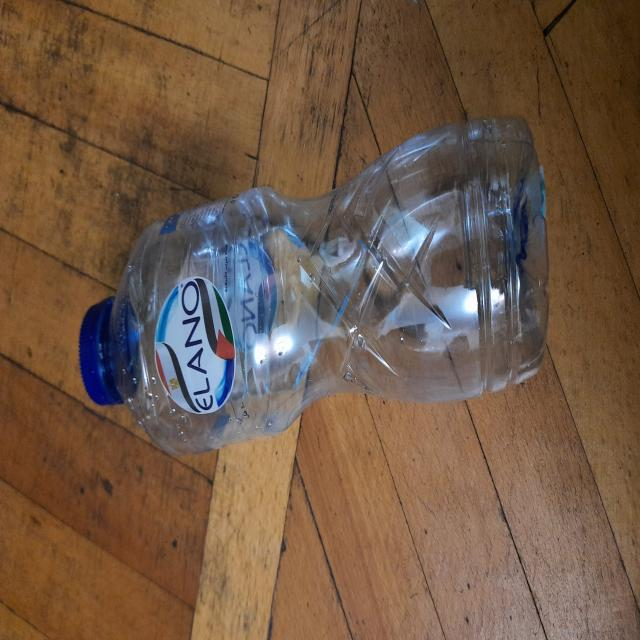plastic: (69, 94, 548, 513)
